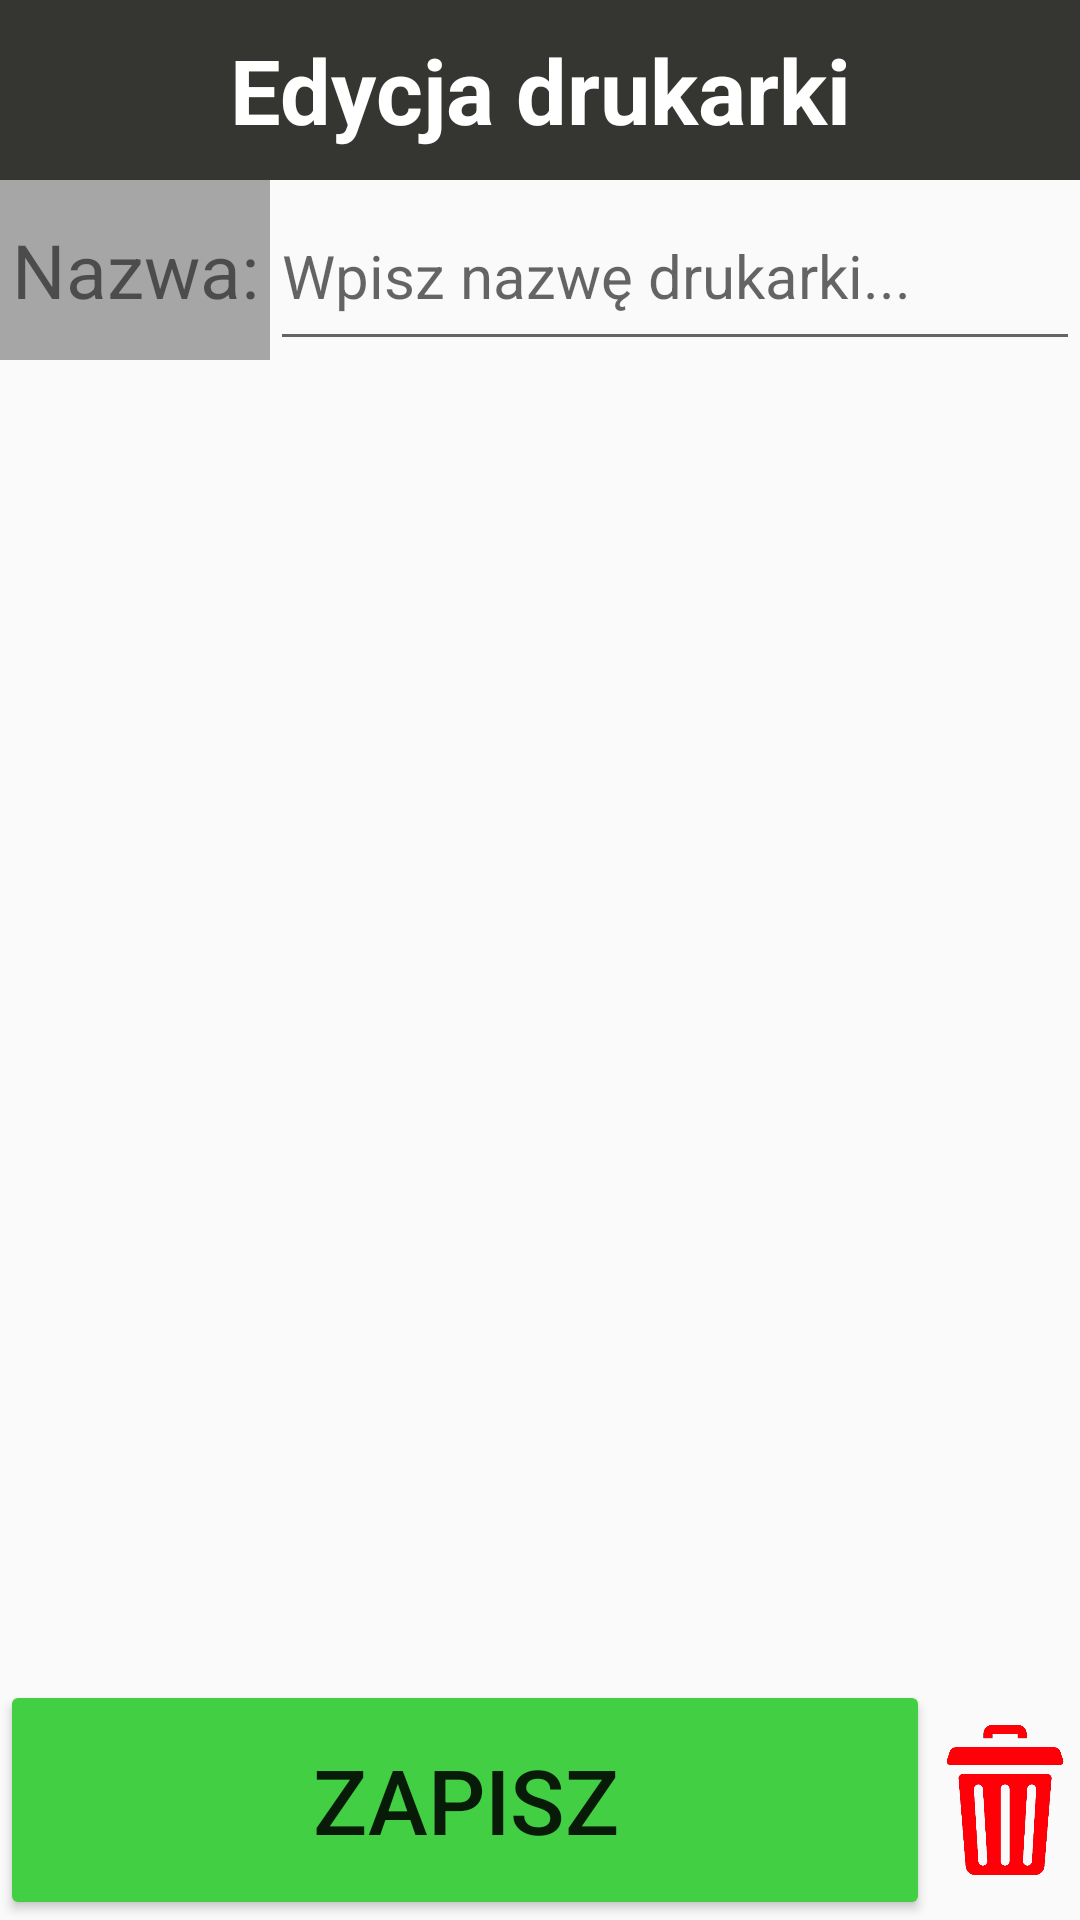

Named icons in this screenshot (1080px x 1920px) and their centers, (x=x, y=y):
delete: (x=1005, y=1800)
